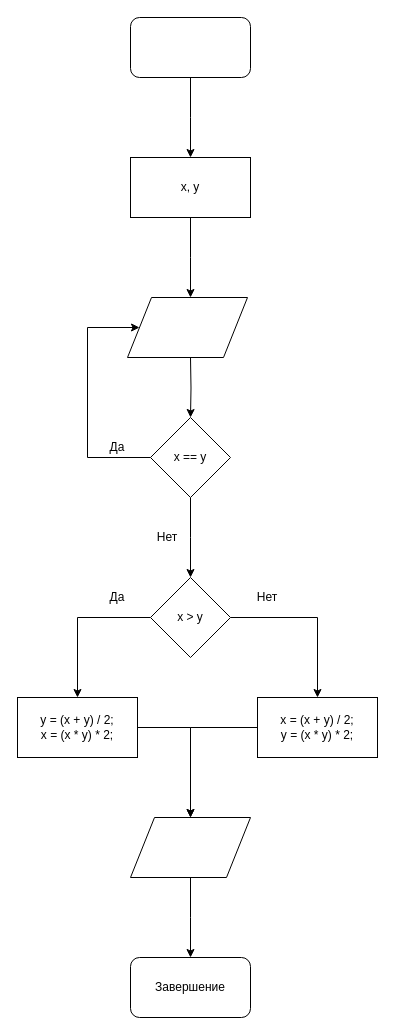
Image size: 395x1035. Some labels were removed from this diagram. The shapes that lost their labels are listed below. From the top down, each one's box as (x1, y1, x2, y2) in pixels, then its label:
(130, 16, 250, 78): Запуск
(126, 296, 248, 358): Input: x, y
(130, 816, 250, 878): Вывод x, y
